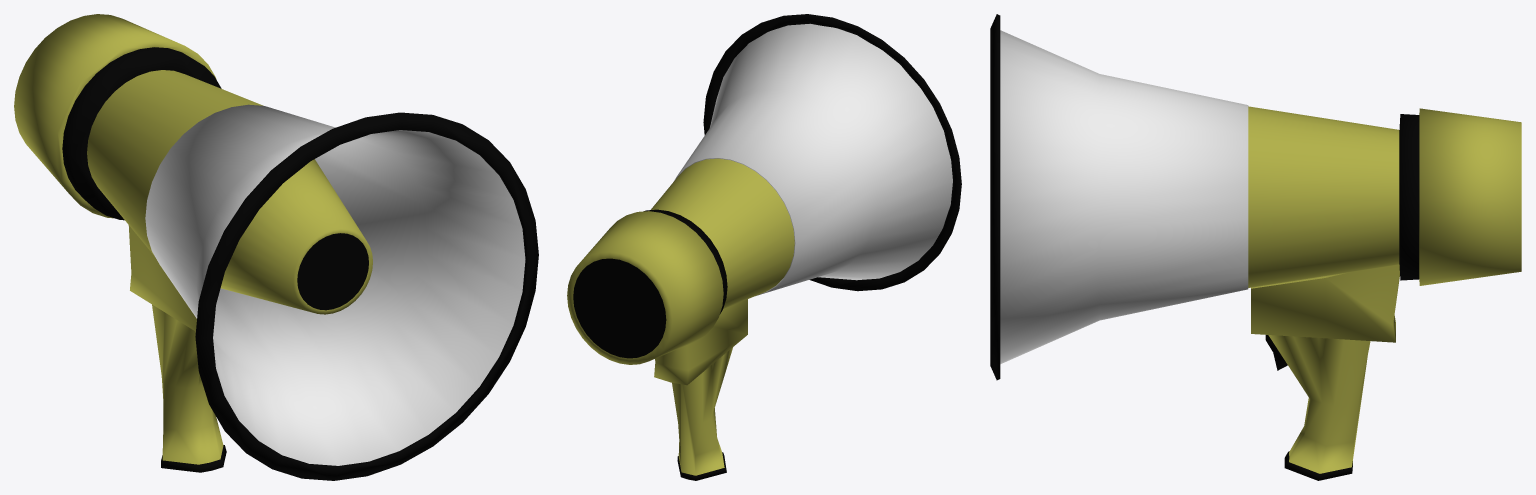
File: LoudSpeaker.fbx
3 views of the same model, side by side, from view 1: azimuth 30°, elevation 25°; view 2: azimuth 150°, elevation 25°; view 3: azimuth 270°, elevation 25° (orthographic). The views are drawn at different scales.
Visible parts, largest first — view 1: Loudspeaker.001; view 2: Loudspeaker.001; view 3: Loudspeaker.001.
Part boxes in pixels (left/top/right/bottom): Loudspeaker.001: left=14, top=14, right=538, bottom=480; Loudspeaker.001: left=567, top=14, right=961, bottom=480; Loudspeaker.001: left=990, top=14, right=1521, bottom=480.
Bounding box in the file's own units: 18.31 × 24.16 × 26.51.
